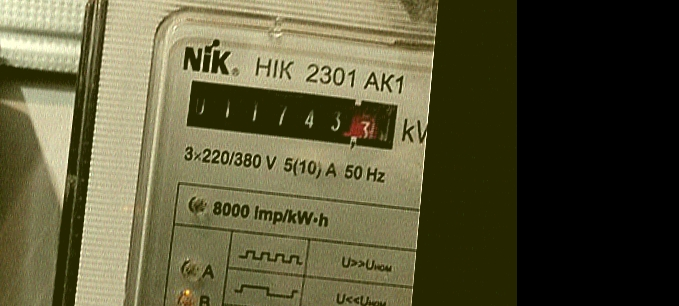0: (193, 89, 209, 117)
1: (220, 92, 236, 121), (247, 95, 263, 124)
3: (328, 106, 344, 134), (356, 119, 373, 141)
4: (302, 105, 318, 131)
7: (274, 101, 290, 127)
screen: (178, 74, 409, 158)
